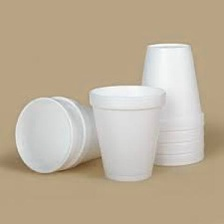paper_cup: (132, 38, 210, 170), (9, 91, 123, 176), (84, 81, 170, 185)
